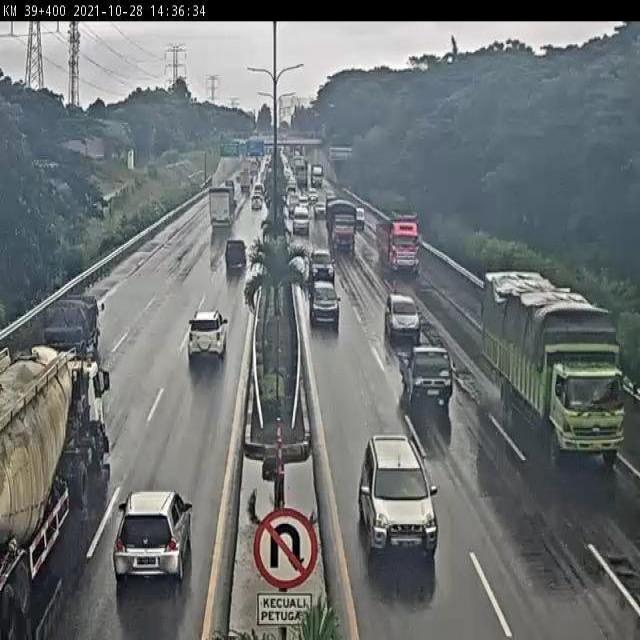truck-m-: (484, 267, 623, 461), (373, 217, 422, 279), (324, 197, 359, 255)
truck-xl-: (0, 342, 110, 640)
